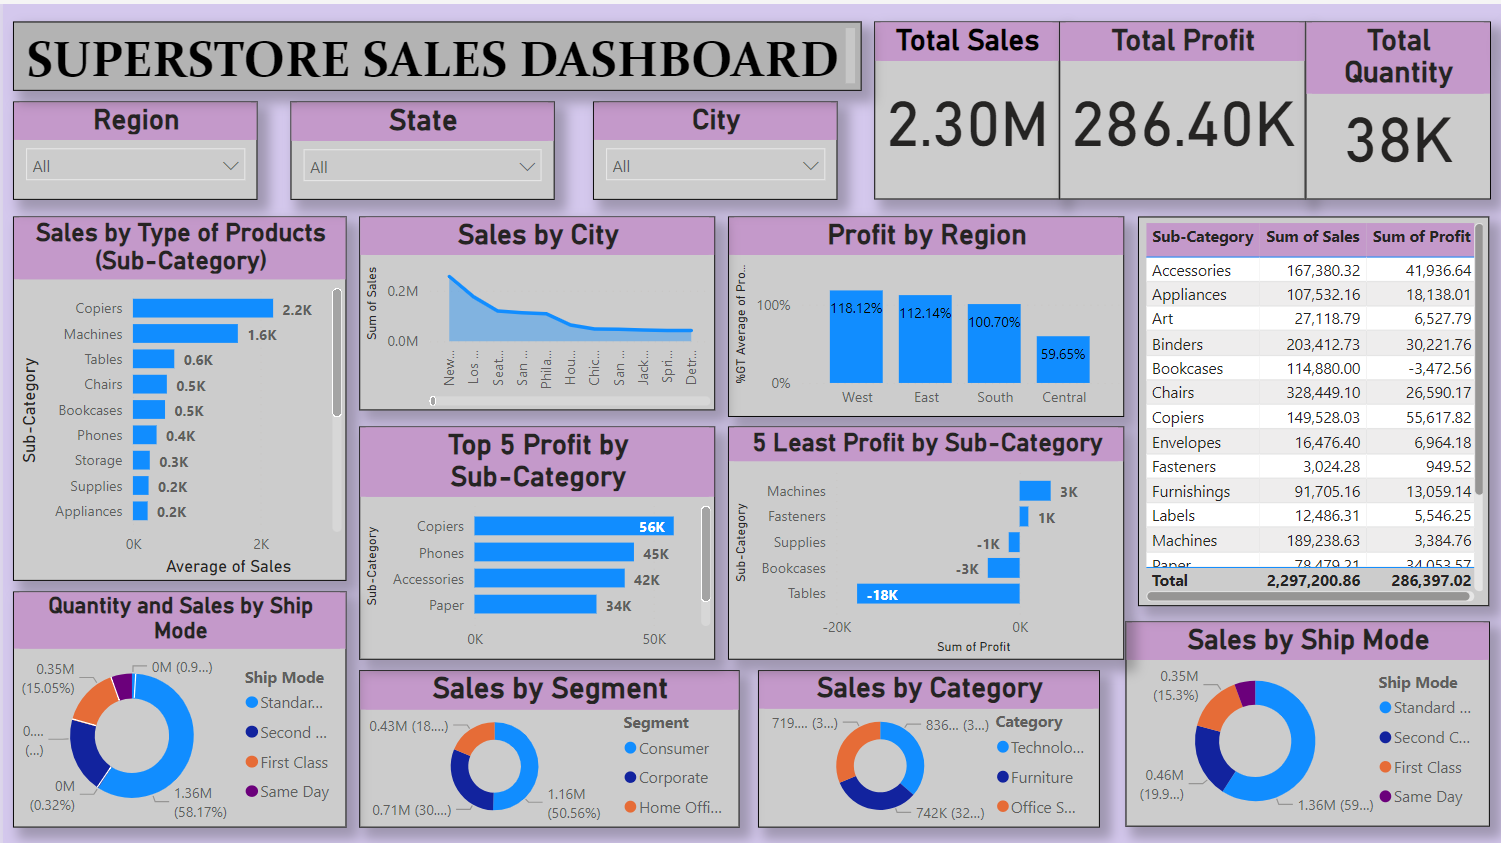

This screenshot's page, from the dashboard's own definition file:
{"tool":"powerbi","page":{"name":"Sample Superstore","canvas":[1280,720],"ordinal":0},"visuals":[{"type":"card","title":"Total Sales","fields":{"Values":["Sum(SampleSuperstore.Sales)"]},"box":[743.6,15.1,158,152.2],"z":0},{"type":"card","title":"Total Profit","fields":{"Values":["Sum(SampleSuperstore.Profit)"]},"box":[901.7,15.1,210.3,152.2],"z":1000},{"type":"card","title":"Total Quantity","fields":{"Values":["Sum(SampleSuperstore.Quantity)"]},"box":[1112,15.1,158,152.2],"z":2000},{"type":"columnChart","title":"Profit by Region","fields":{"Category":["SampleSuperstore.Region"],"Y":["Sum(SampleSuperstore.Profit)"]},"box":[619.7,181,338.6,171.4],"z":4000},{"type":"barChart","title":"Sales by Type of Products (Sub-Category)","fields":{"Category":["SampleSuperstore.Sub-Category"],"Y":["Avg(SampleSuperstore.Sales)"]},"box":[8.2,181,285.2,311.2],"z":5000},{"type":"donutChart","title":"Sales by Category","fields":{"Category":["SampleSuperstore.Category"],"Y":["Sum(SampleSuperstore.Sales)"]},"box":[644.4,569,292,134.4],"z":6000},{"type":"donutChart","title":"Sales by Segment","fields":{"Category":["SampleSuperstore.Segment"],"Y":["Sum(SampleSuperstore.Sales)"]},"box":[304.4,569,324.9,134.4],"z":7000},{"type":"donutChart","title":"Sales by Ship Mode","fields":{"Y":["Sum(SampleSuperstore.Sales)"],"Category":["SampleSuperstore.Ship Mode"]},"box":[958.4,527.9,311.2,175.5],"z":8000},{"type":"slicer","title":"State","fields":{"Values":["SampleSuperstore.State"]},"box":[245.2,83.7,225.4,83.7],"z":9000},{"type":"slicer","title":"City","fields":{"Values":["SampleSuperstore.City"]},"box":[504.3,83.7,209.2,83.7],"z":10000},{"type":"slicer","title":"Region","fields":{"Values":["SampleSuperstore.Region"]},"box":[8.1,83.7,209.2,83.7],"z":11000},{"type":"textbox","box":[8.1,15.1,725.1,59.3],"z":13000},{"type":"areaChart","title":"Sales by City","fields":{"Category":["SampleSuperstore.City"],"Y":["Sum(SampleSuperstore.Sales)"]},"box":[304.4,181,304.4,165.9],"z":13001},{"type":"barChart","title":"Top 5 Profit by Sub-Category","fields":{"Category":["SampleSuperstore.Sub-Category"],"Y":["Sum(SampleSuperstore.Profit)"]},"box":[304.4,360.6,304.4,198.8],"z":13002},{"type":"barChart","title":"5 Least Profit by Sub-Category","fields":{"Y":["Sum(SampleSuperstore.Profit)"],"Category":["SampleSuperstore.Sub-Category"]},"box":[619.7,360.6,338.6,198.8],"z":13003},{"type":"tableEx","fields":{"Values":["SampleSuperstore.Sub-Category","Sum(SampleSuperstore.Sales)","Sum(SampleSuperstore.Profit)"]},"box":[969.3,181,300.3,333.2],"z":13004},{"type":"donutChart","title":"Quantity and Sales by Ship Mode","fields":{"Y":["Sum(SampleSuperstore.Quantity)","Sum(SampleSuperstore.Sales)"],"Category":["SampleSuperstore.Ship Mode"]},"box":[8.2,501.8,285.2,201.5],"z":13005}]}

Visuals, with their boxes in screenshot pixels (x1, y1, x2, y2), scaled from the page's 1280x720 canvas onto the 1501x843 screenshot:
"Total Sales" card: 872 18 1057 196
"Total Profit" card: 1057 18 1304 196
"Total Quantity" card: 1304 18 1489 196
"Profit by Region" columnChart: 727 212 1124 413
"Sales by Type of Products (Sub-Category)" barChart: 10 212 344 576
"Sales by Category" donutChart: 756 666 1098 824
"Sales by Segment" donutChart: 357 666 738 824
"Sales by Ship Mode" donutChart: 1124 618 1489 824
"State" slicer: 288 98 552 196
"City" slicer: 591 98 837 196
"Region" slicer: 9 98 255 196
textbox: 9 18 860 87
"Sales by City" areaChart: 357 212 714 406
"Top 5 Profit by Sub-Category" barChart: 357 422 714 655
"5 Least Profit by Sub-Category" barChart: 727 422 1124 655
tableEx - SampleSuperstore.Sub-Category x Sum(SampleSuperstore.Sales): 1137 212 1489 602
"Quantity and Sales by Ship Mode" donutChart: 10 588 344 823
